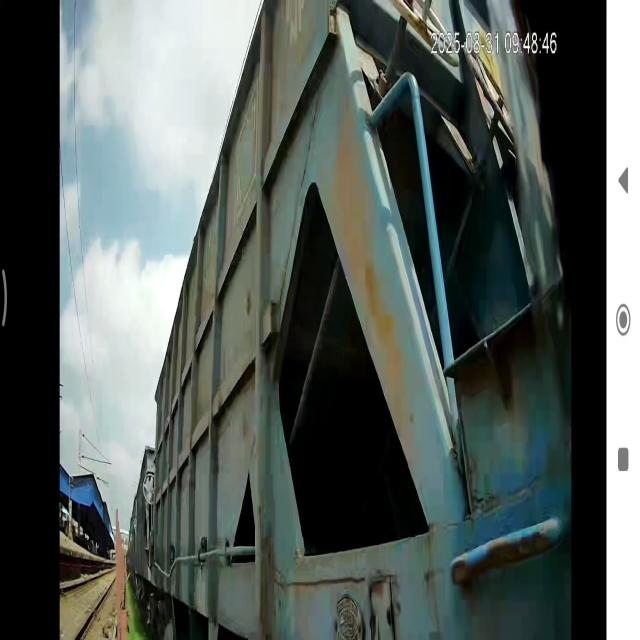coach: (158, 0, 352, 640)
